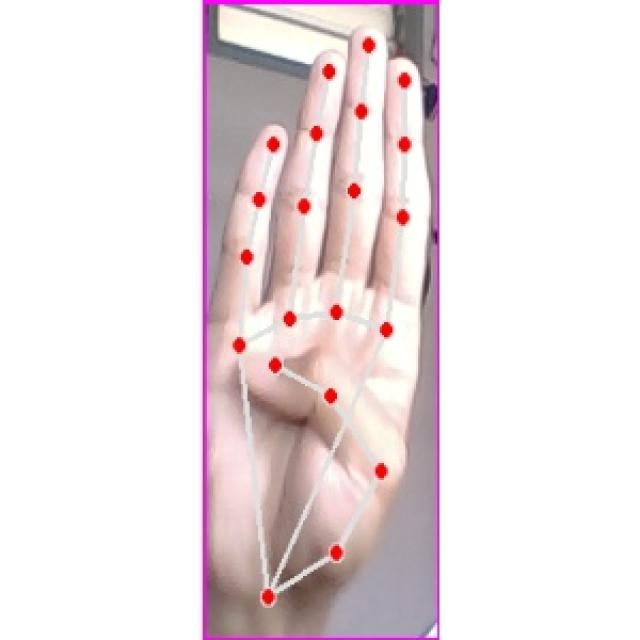B: (211, 13, 437, 615)
